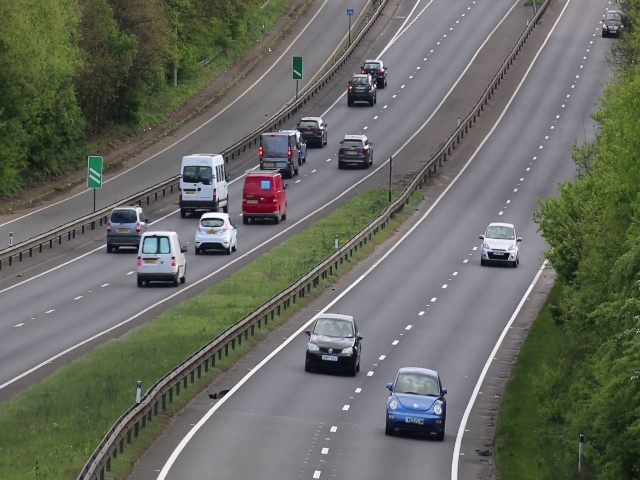car: (382, 365, 448, 443), (303, 313, 364, 376), (176, 151, 230, 217), (130, 229, 186, 292), (240, 172, 288, 224), (254, 131, 300, 176), (196, 209, 238, 257), (105, 203, 145, 253), (481, 219, 521, 269), (339, 128, 373, 171), (347, 73, 376, 109), (297, 115, 327, 145), (363, 58, 387, 90), (287, 129, 309, 159), (602, 8, 621, 40)
